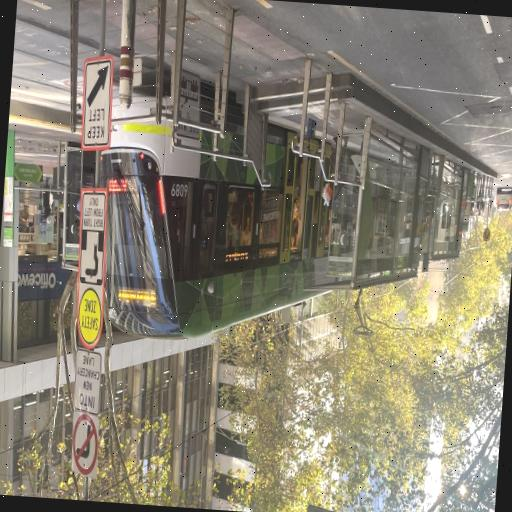handrail: (294, 59, 423, 196)
signage: (73, 0, 107, 479)
stairs: (251, 74, 353, 111)
